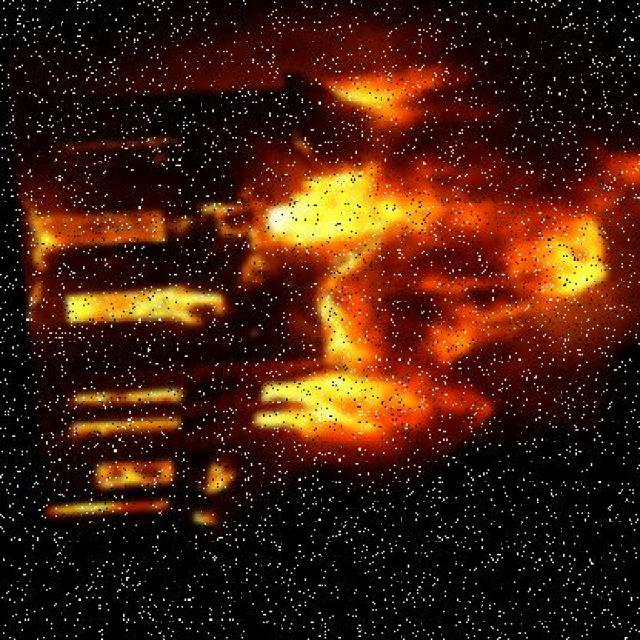fire: (261, 60, 639, 477)
